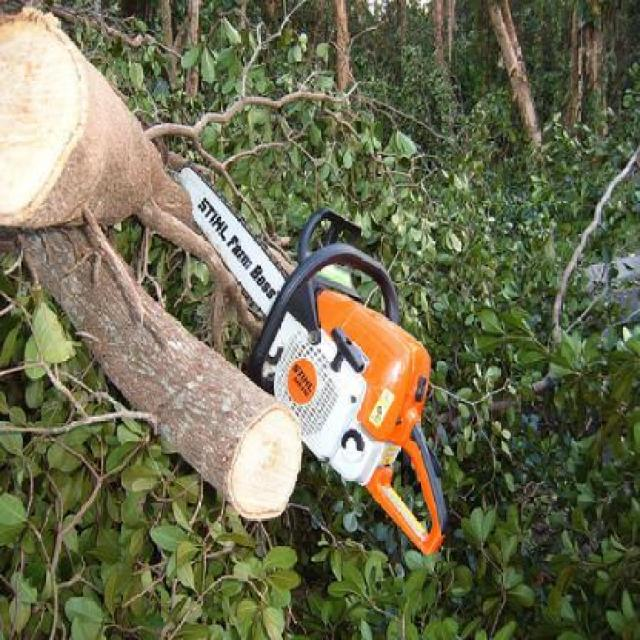Chainsaw: (178, 160, 447, 557)
